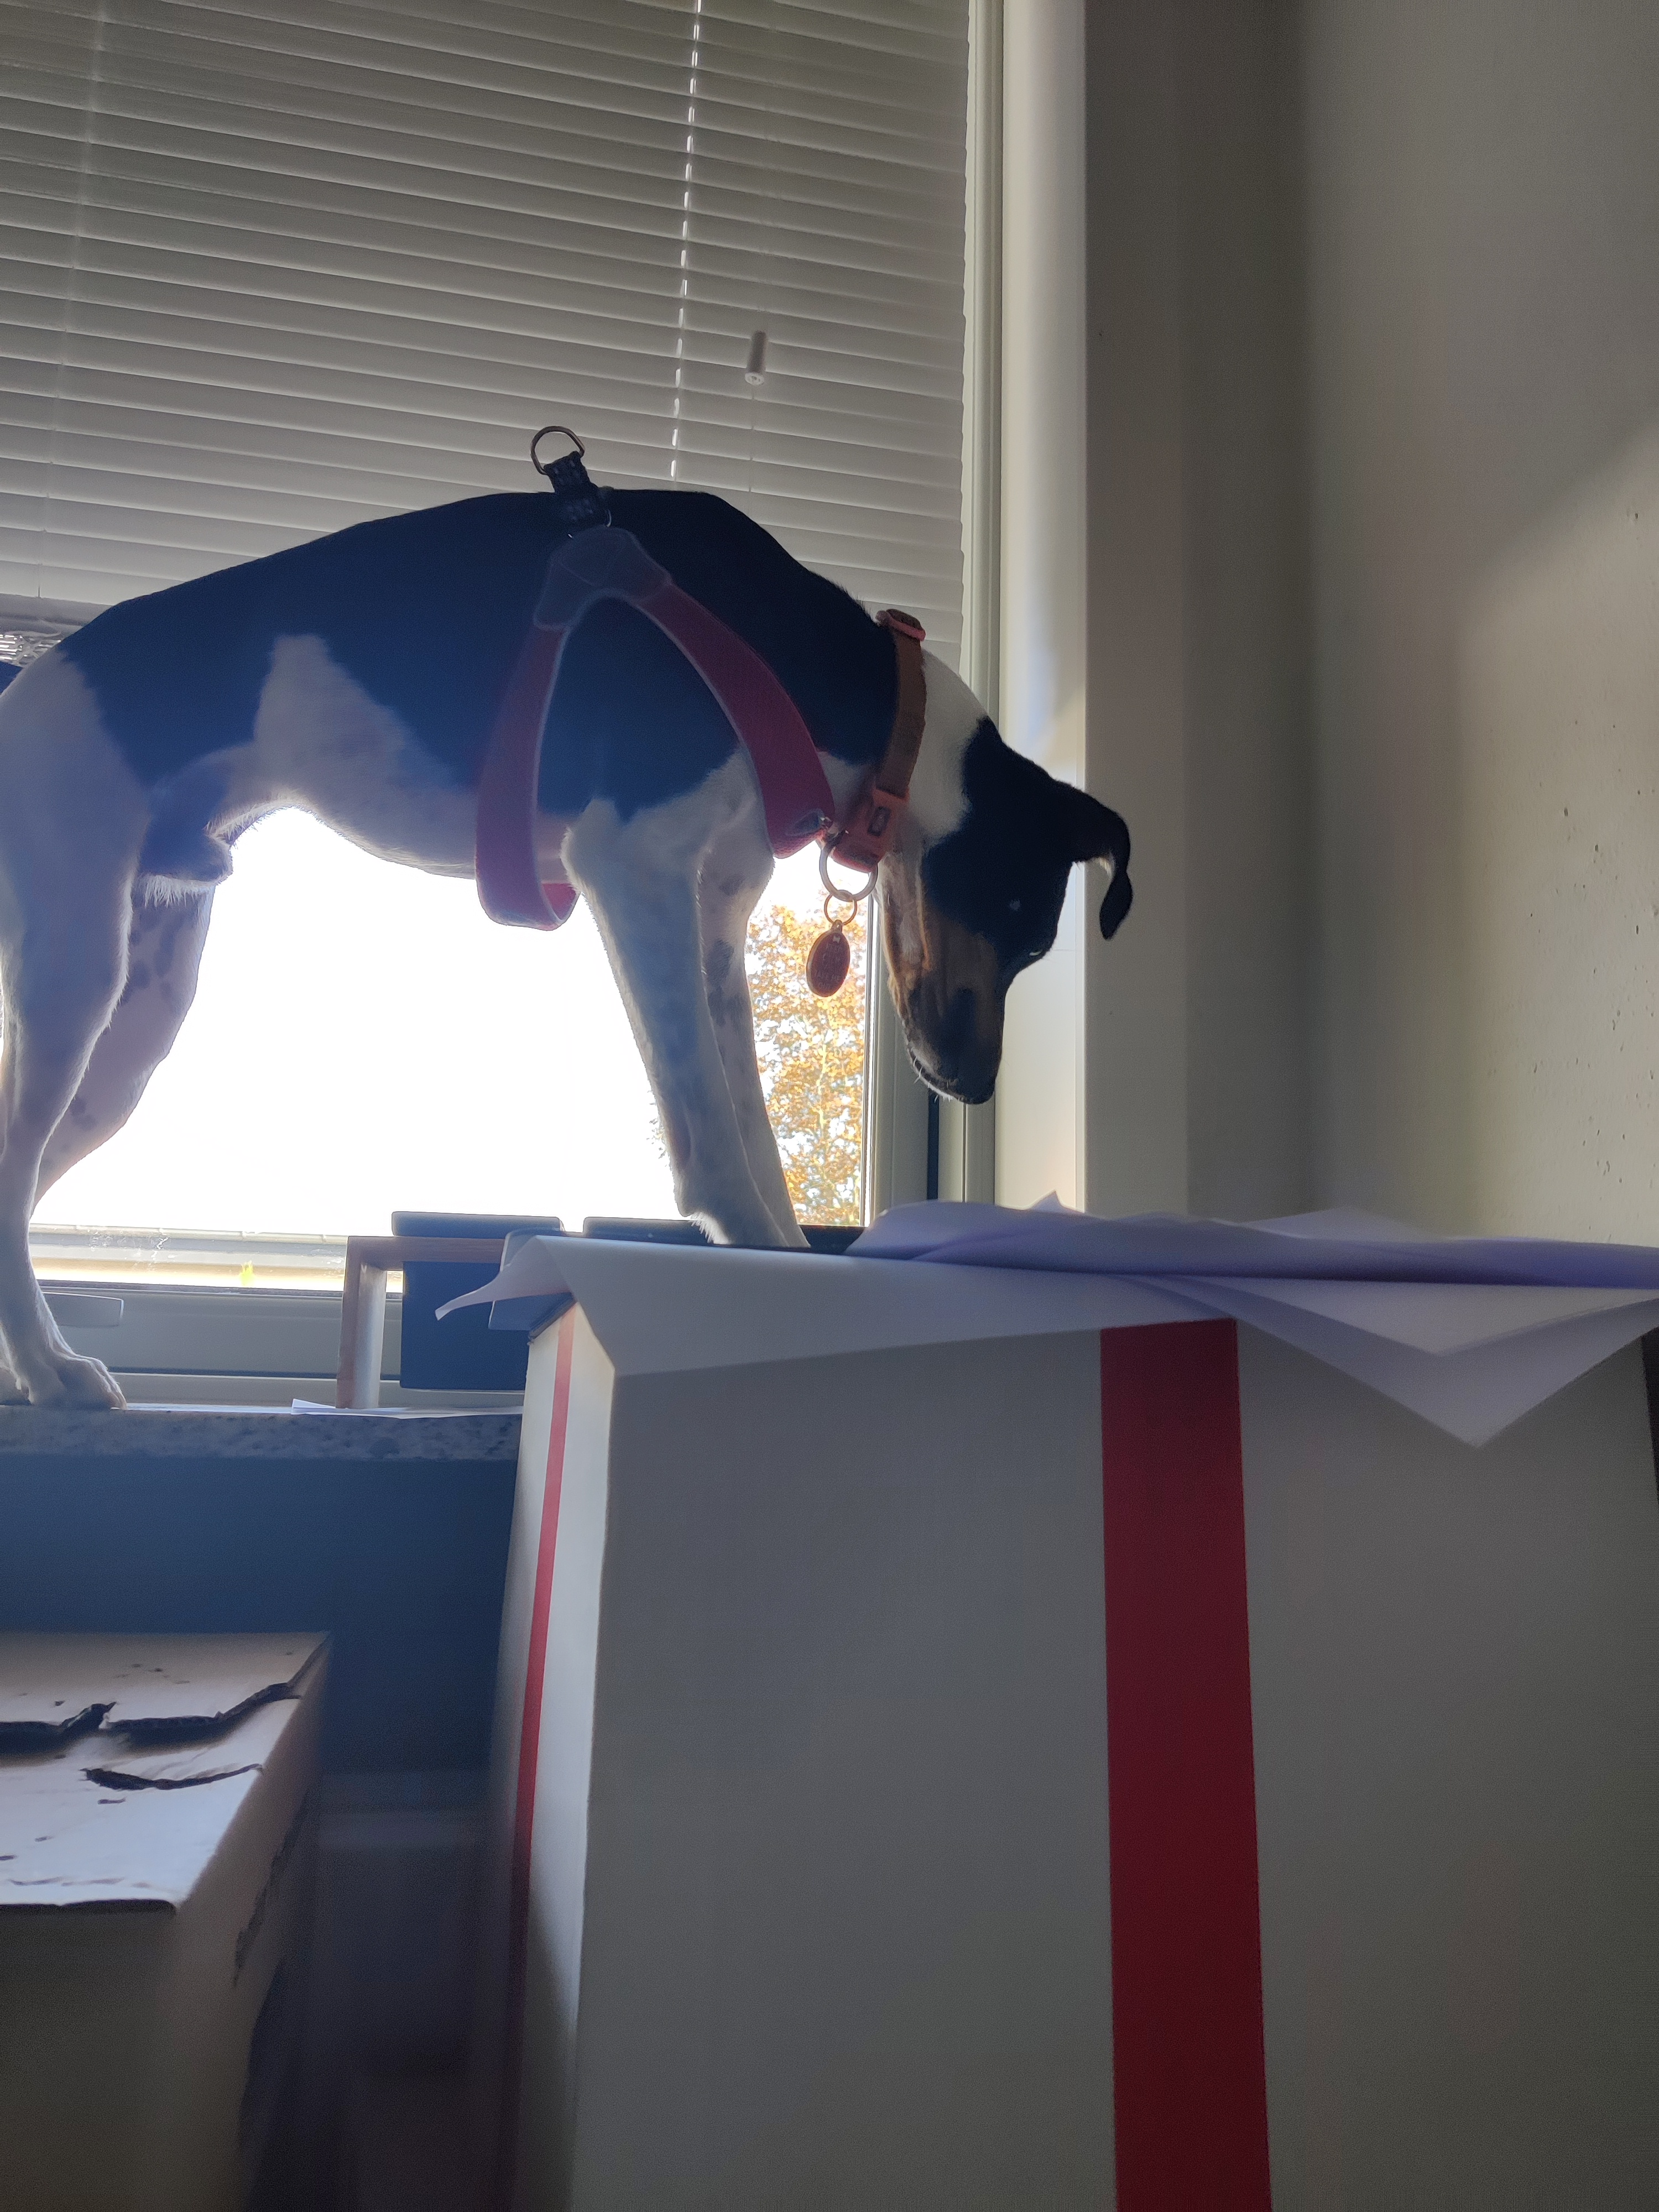Dog: (0, 475, 1143, 1418)
